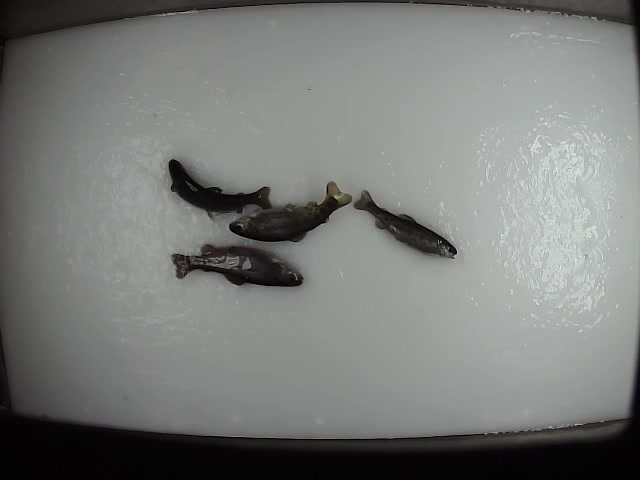fish: (226, 179, 351, 246), (352, 189, 461, 263), (167, 237, 305, 290), (162, 155, 273, 218)
